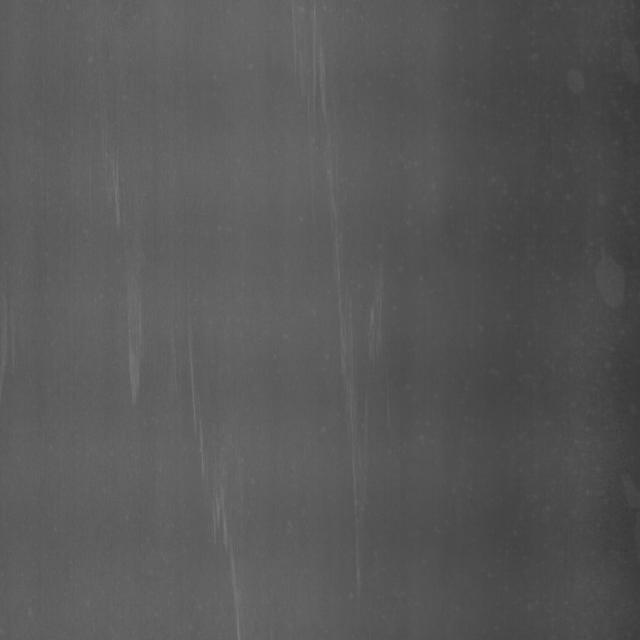inclusion: (176, 356, 258, 638), (327, 276, 394, 587), (297, 33, 366, 235), (108, 284, 156, 392)
